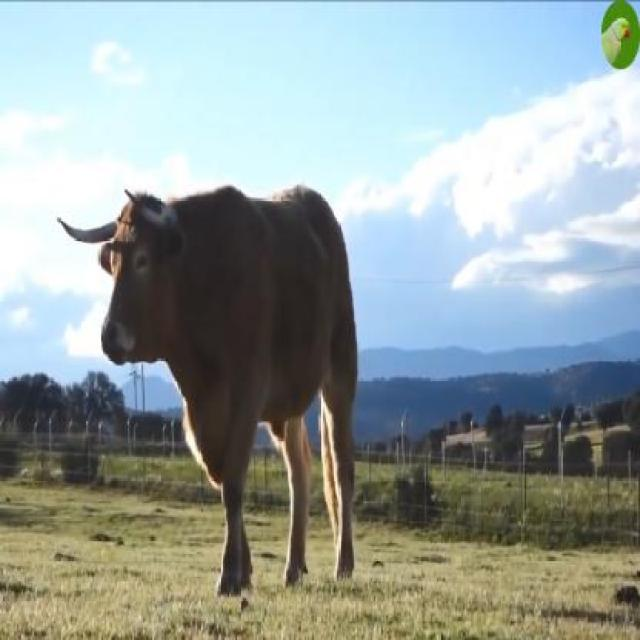Cow: (54, 177, 357, 588)
